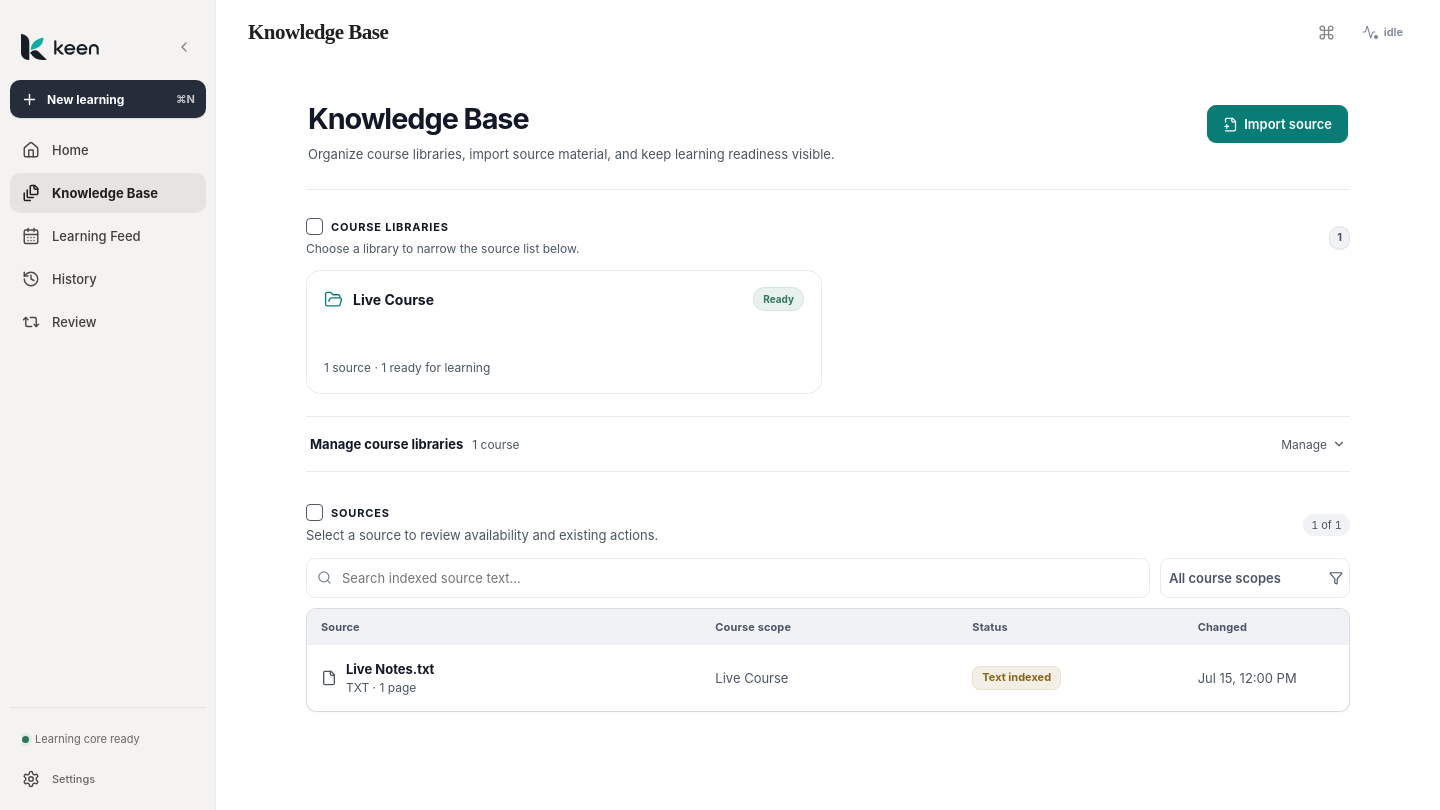
Scenario: learning-core runtime states › hands one ready linked course from Knowledge Base to focused study
Click the button with aria-label "Open source details: Live Notes.txt".
click(390, 669)  # box [307, 645, 1349, 711]
(page scrolled)
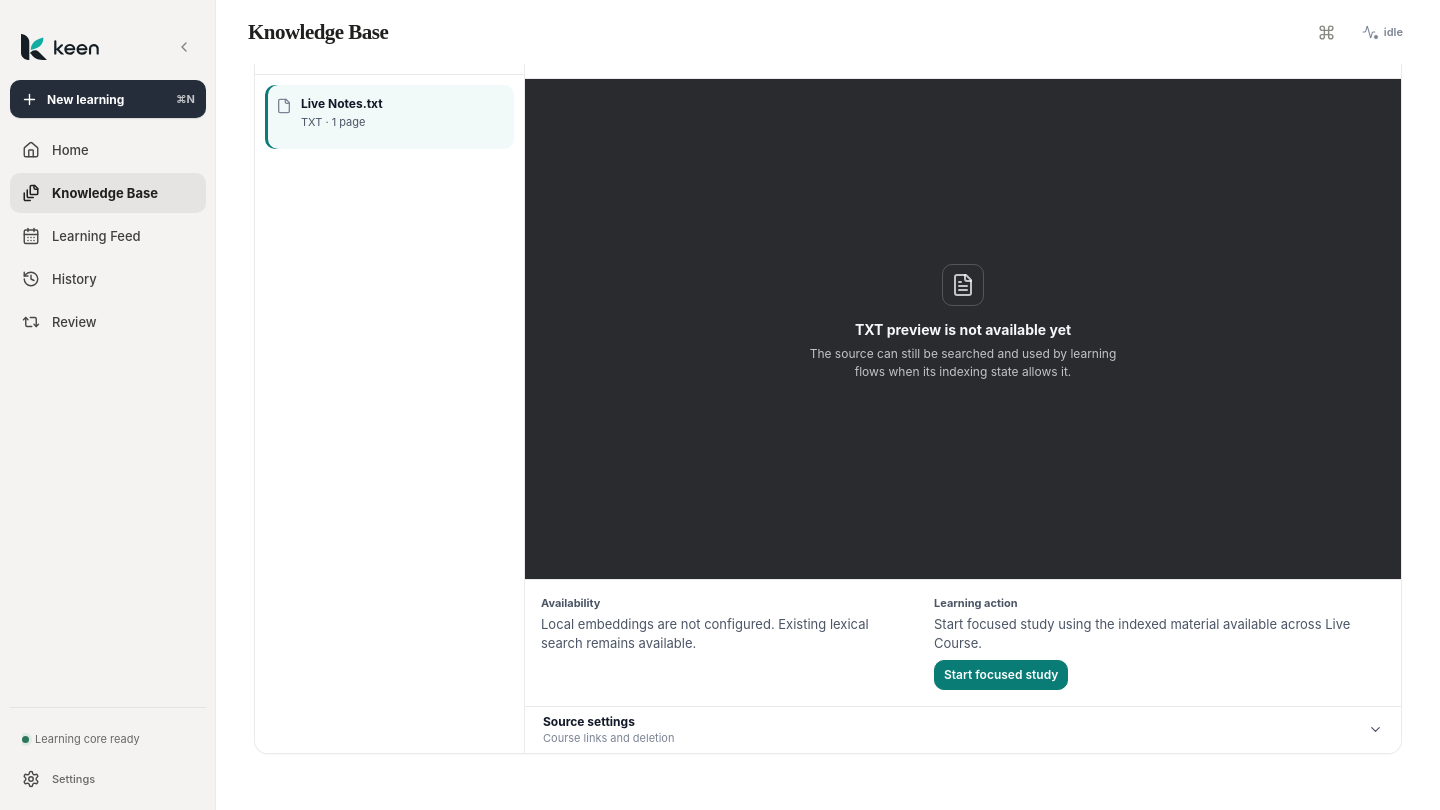
Click the button "Start focused study".
click(1001, 675)  # box [934, 660, 1068, 690]
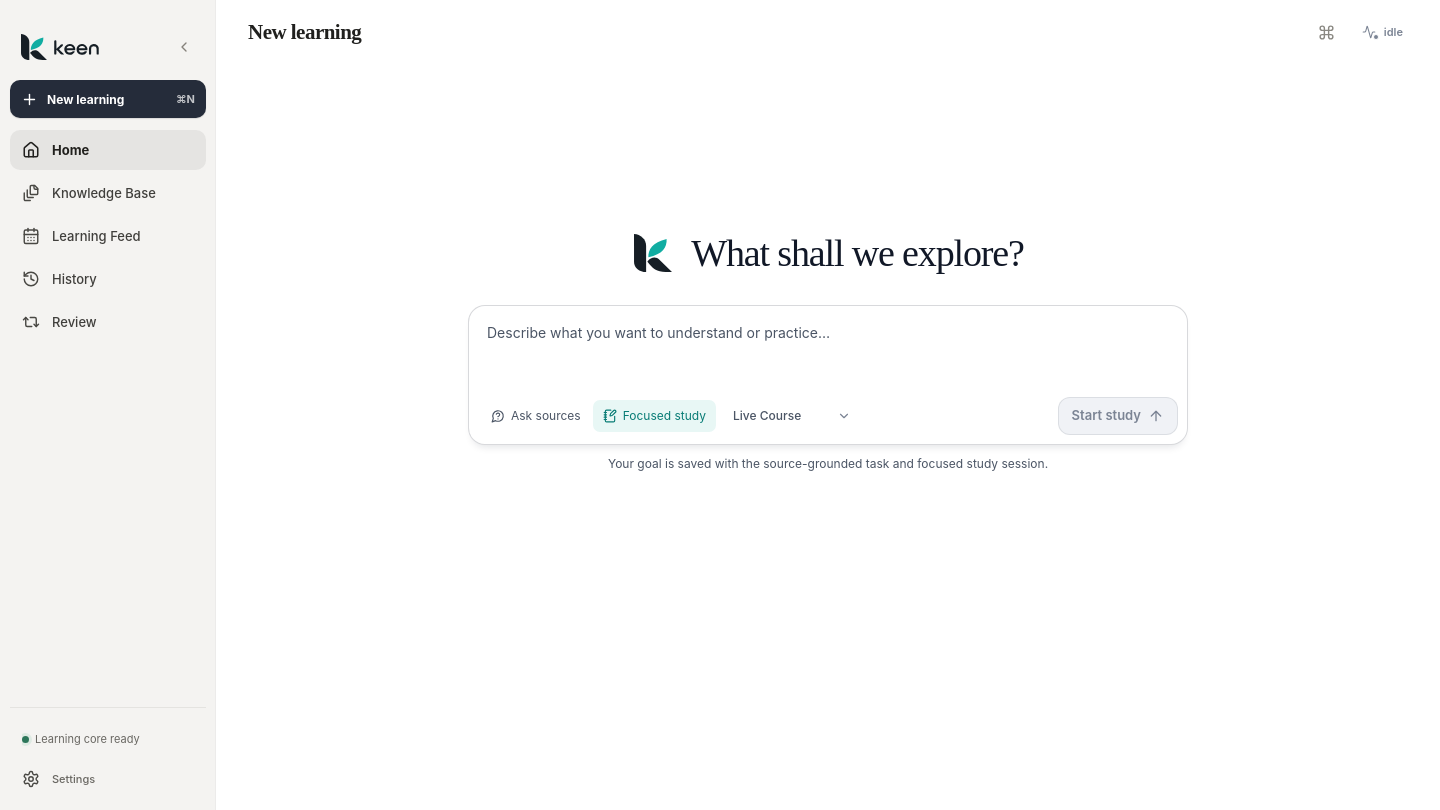
expect the dropdown named "Learning source course" shows "Live Course": met, box [723, 399, 859, 433]
expect the dropdown named "Learning source course" is enabled: met, box [723, 399, 859, 433]
